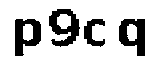9: (47, 8, 81, 53)
c: (83, 18, 109, 48)
p: (12, 16, 43, 60)
q: (117, 17, 148, 60)
